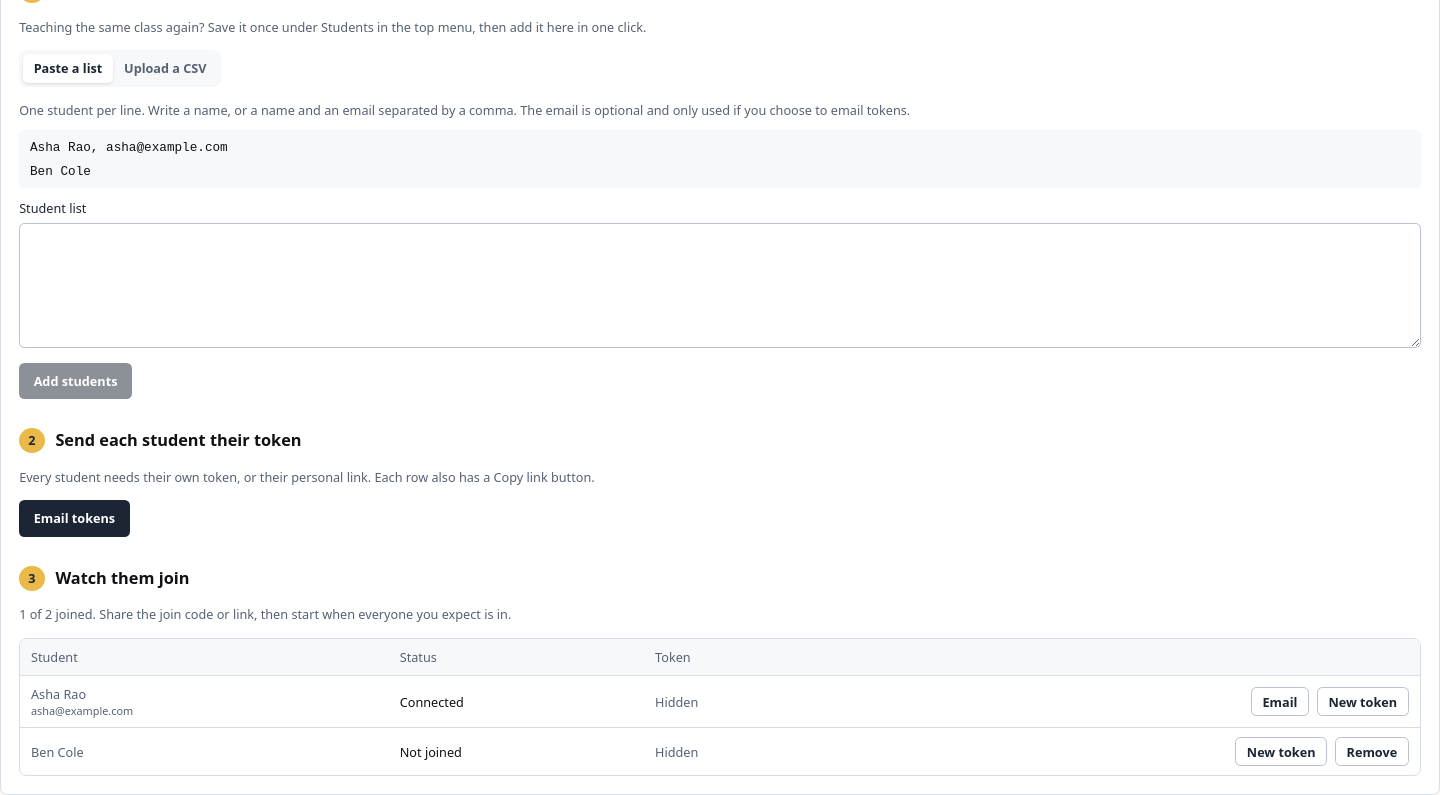
Test: RosterPanel › issues a new token for one student and shows it
(page scrolled)
Click the button with aria-label "New token for Ben Cole" at (1281, 752), box top-left (1235, 737), bottom-right (1328, 766)
(page scrolled)
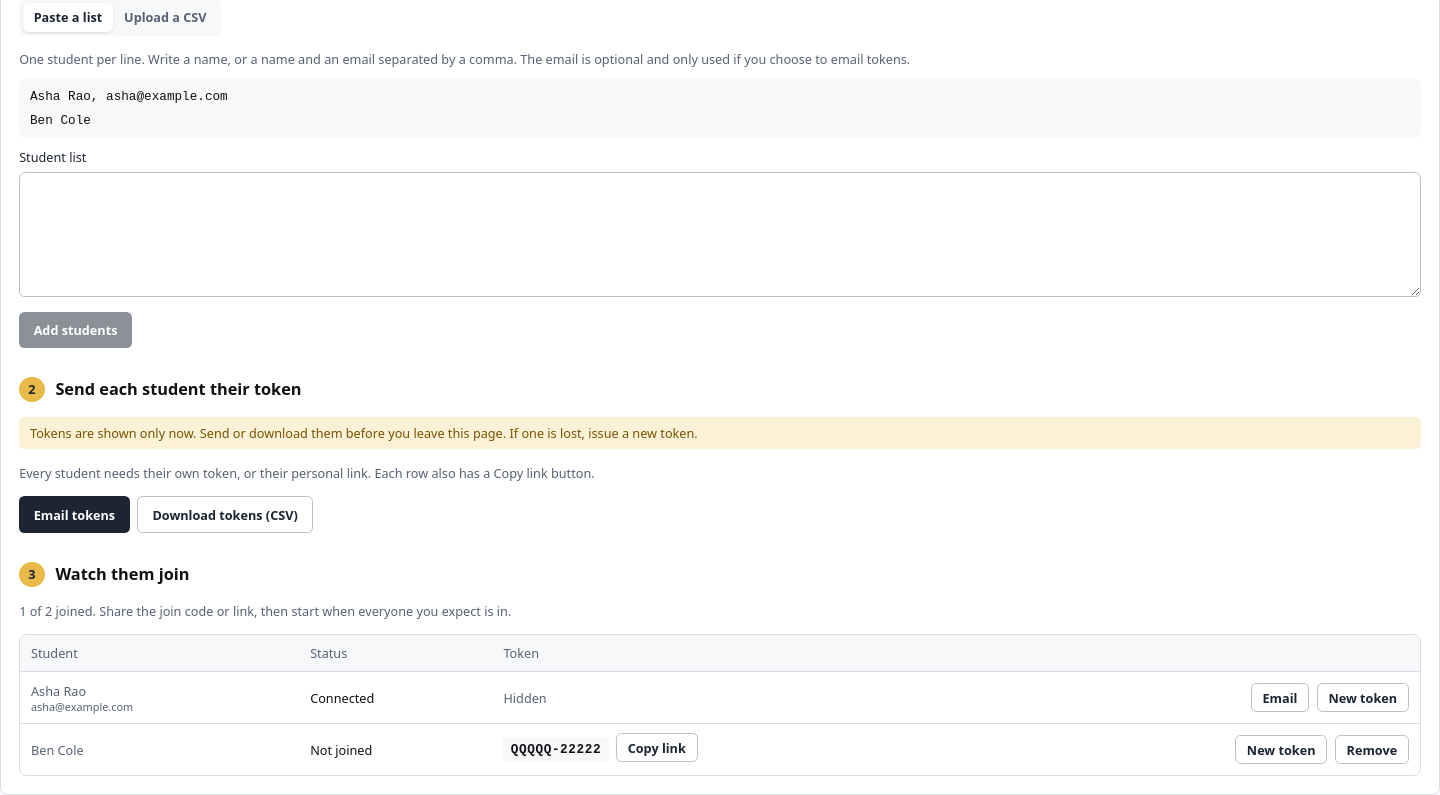
Expected: the text "QQQQQ-22222" is shown, top-left (503, 737), bottom-right (608, 762)
